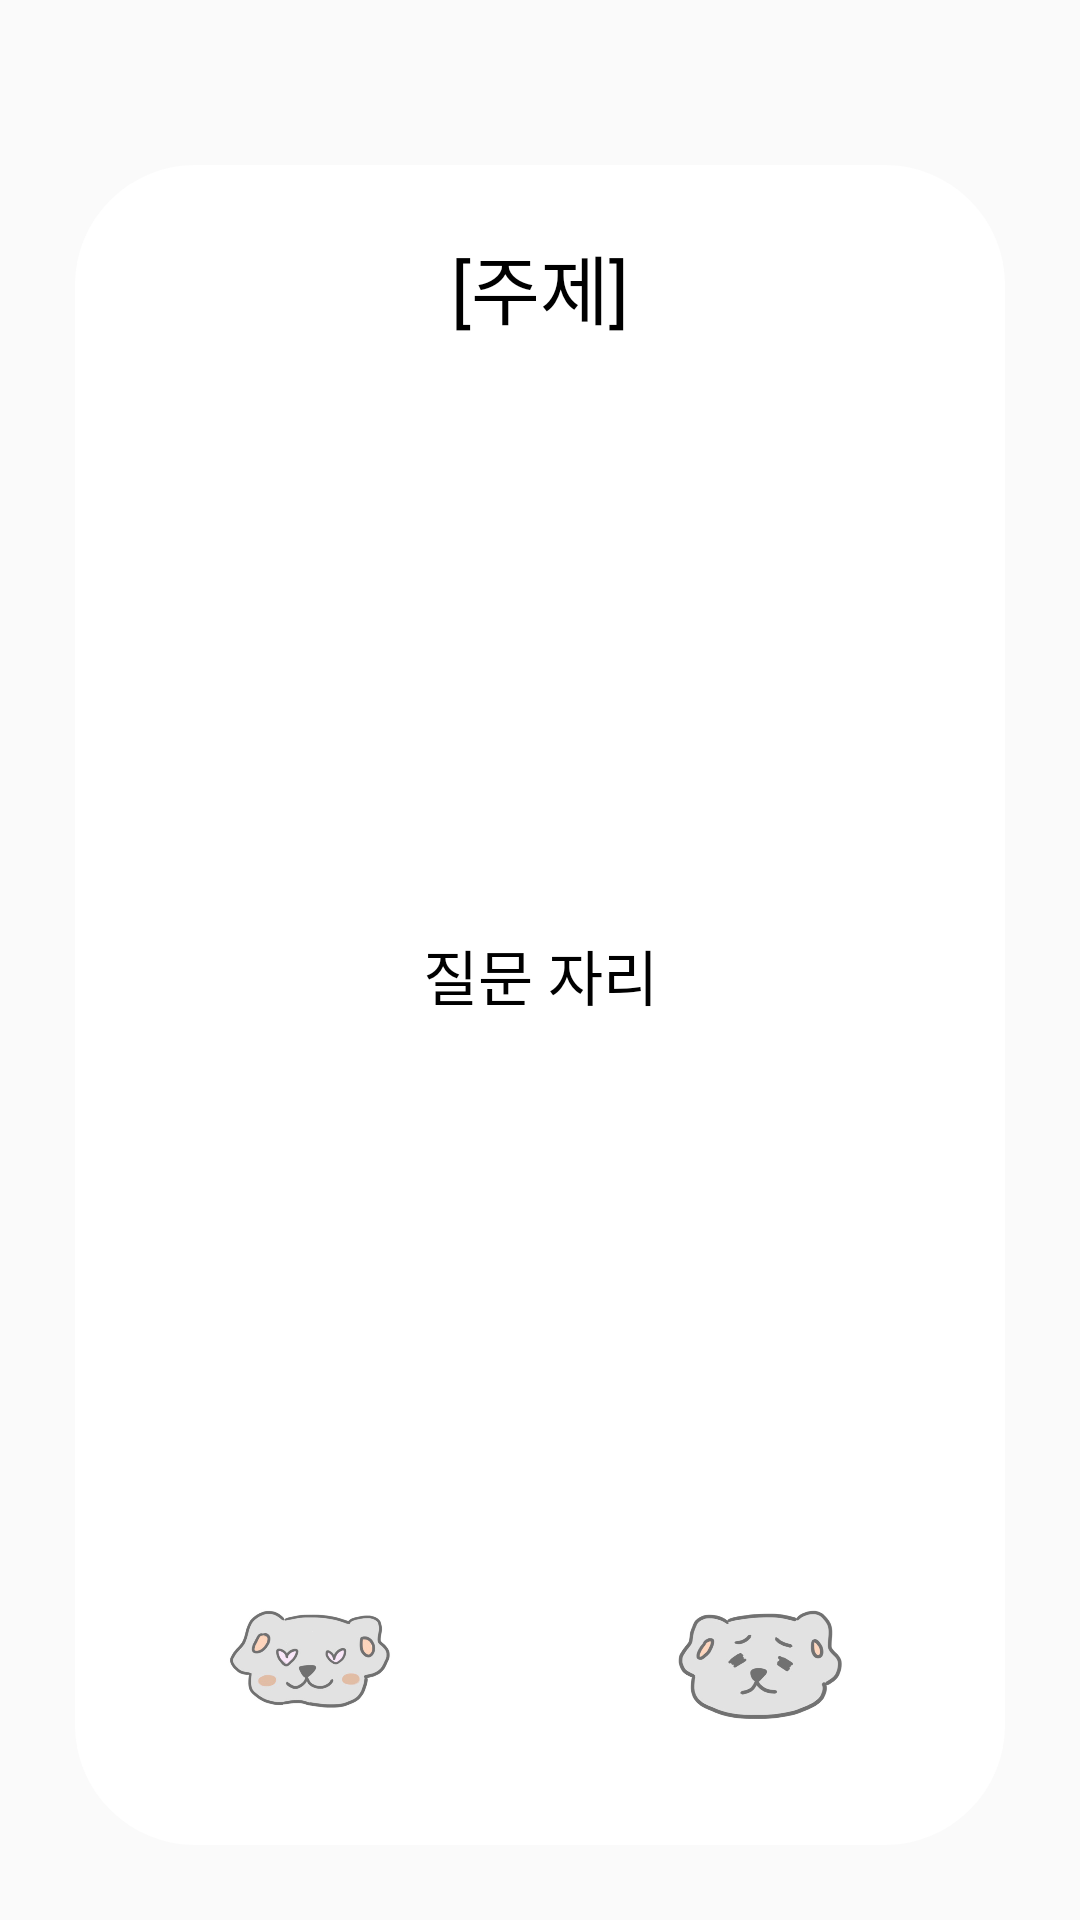

Icon bounding boxes for this 1080x1920 phone screenshot, format (x1, y1, x2, y2):
hate ala: (678, 1611, 842, 1719)
like ala: (230, 1611, 390, 1708)
